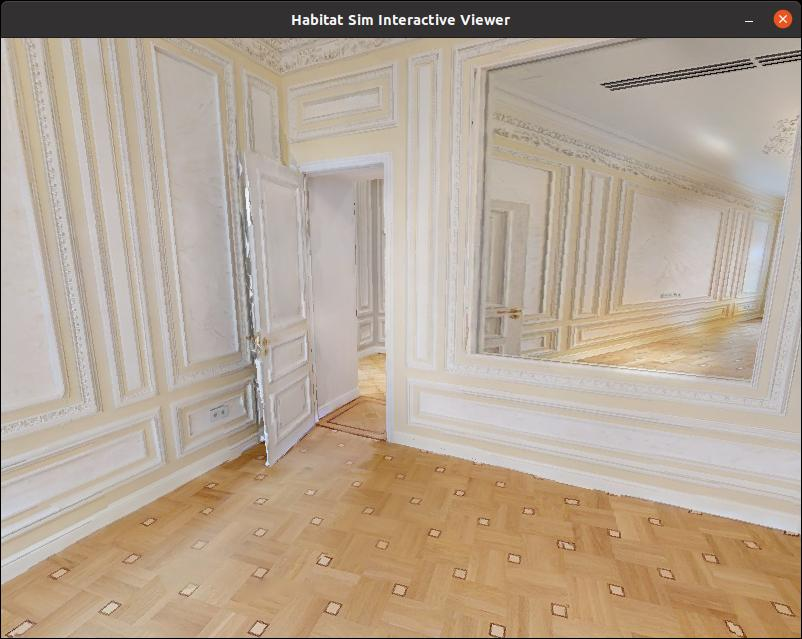door: (233, 149, 329, 471)
door-frame: (291, 153, 405, 456)
